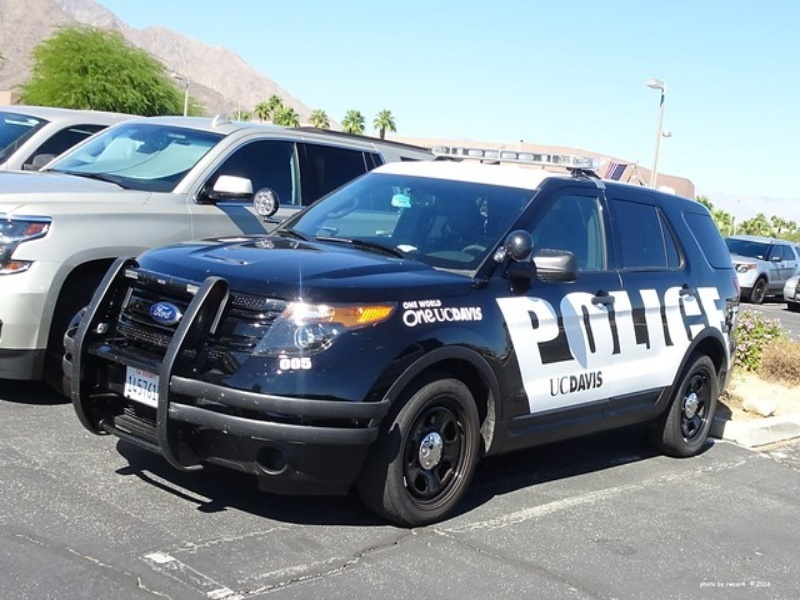policecar: (207, 103, 743, 508)
